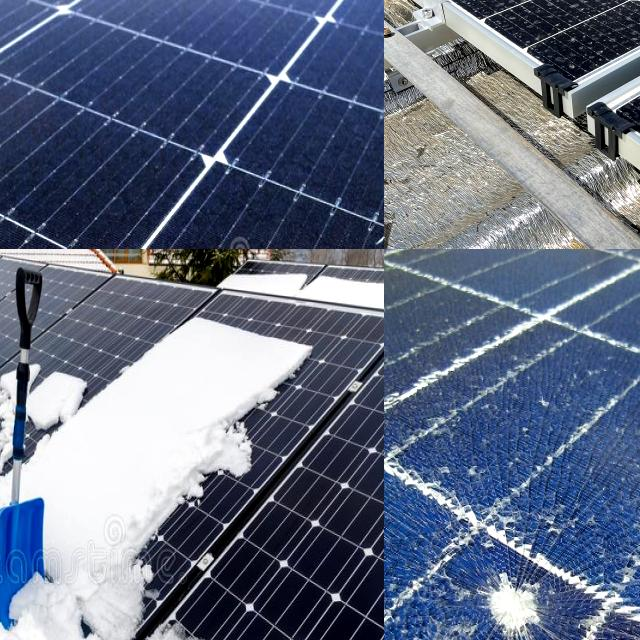dust: (437, 0, 635, 77), (535, 0, 627, 49)
hotspot: (468, 545, 573, 640)
panel: (191, 318, 312, 421), (28, 448, 106, 562), (111, 376, 187, 478), (83, 556, 155, 640), (23, 358, 94, 431), (133, 589, 212, 640), (0, 326, 35, 414), (0, 398, 35, 481)
